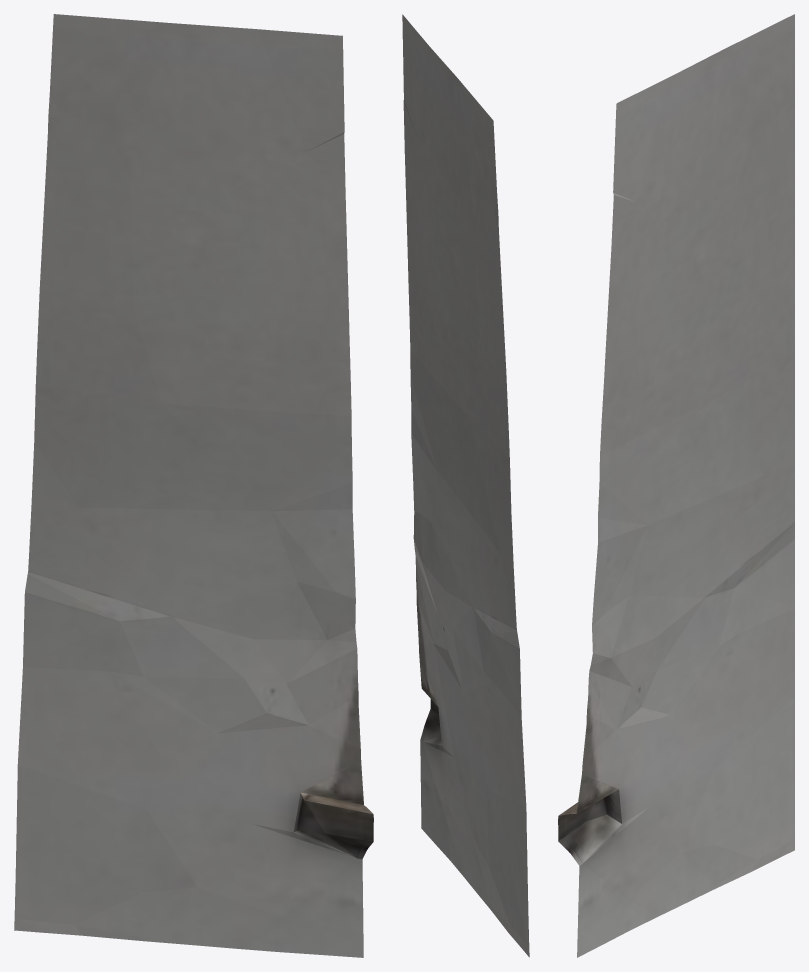
The picture shows the model from 3 angles, left to right: view 1: azimuth 30°, elevation 25°; view 2: azimuth 150°, elevation 25°; view 3: azimuth 270°, elevation 25°; orthographic projection. The views are drawn at different scales.
Bounding box in the file's own units: 0.9048 × 3.35 × 0.841.
1 material, 1 textured.
